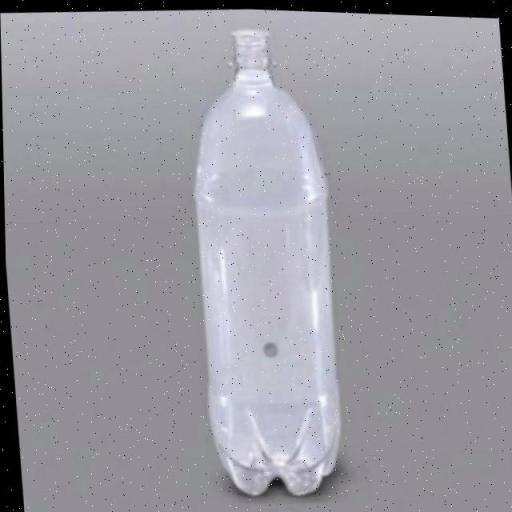plastic: (182, 19, 349, 501)
